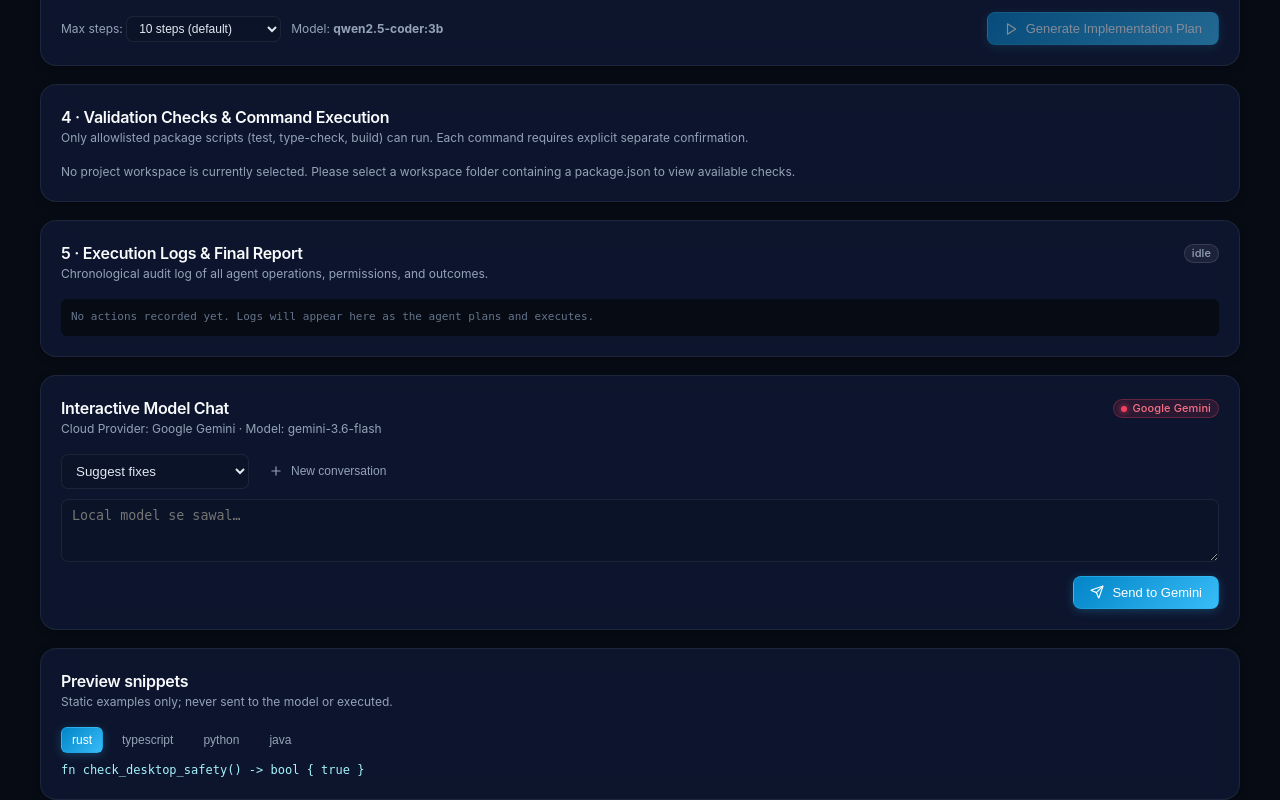
Lodhi AI Screens & Quality Assurance Suite › renders CodingAssistantScreen and switches languages
(page scrolled)
Expected: the text "fn check_desktop_safety() -> bool { true }" is shown, [61, 762, 364, 776]
// Switch to TypeScript
Click the button "typescript" at (148, 740), box [111, 726, 184, 752]
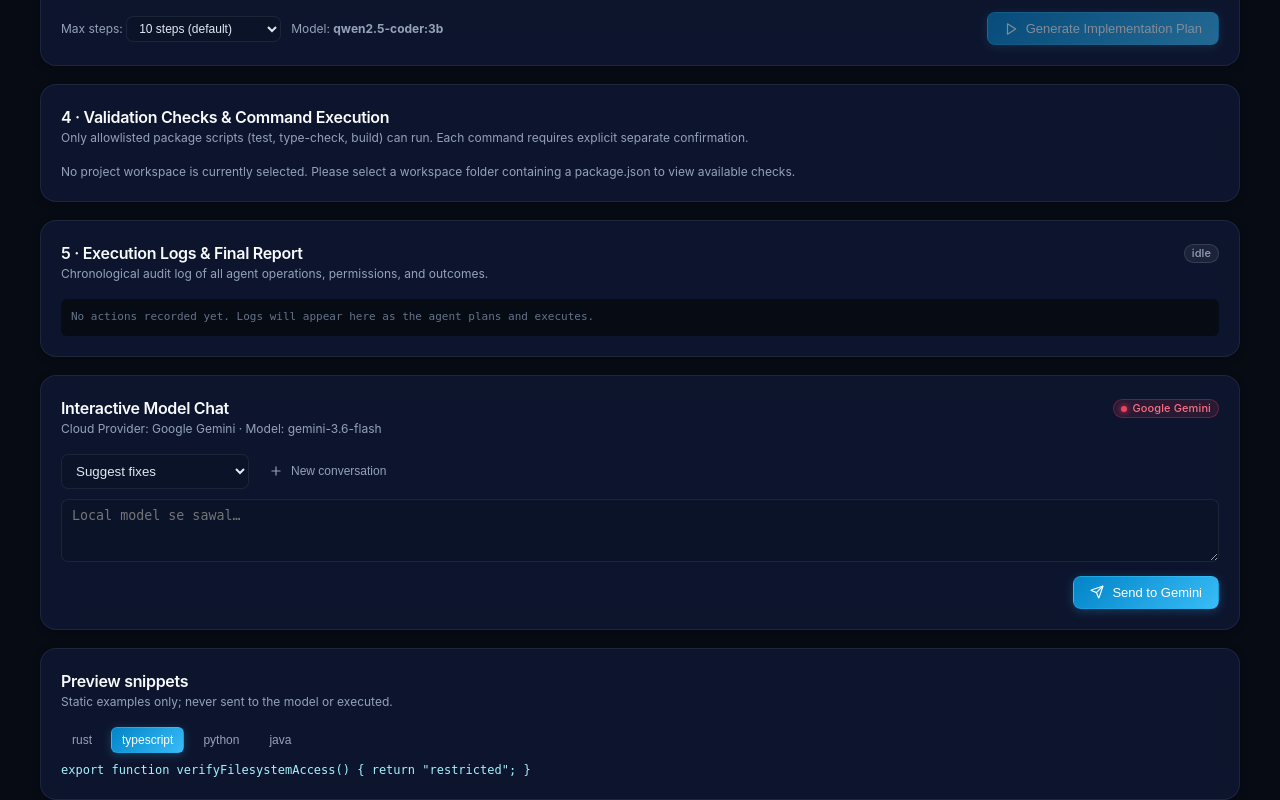
Now the text "verifyFilesystemAccess" is shown, box [61, 762, 531, 776]
// Switch to Python
Click the button "python" at (221, 740), box [192, 726, 250, 752]
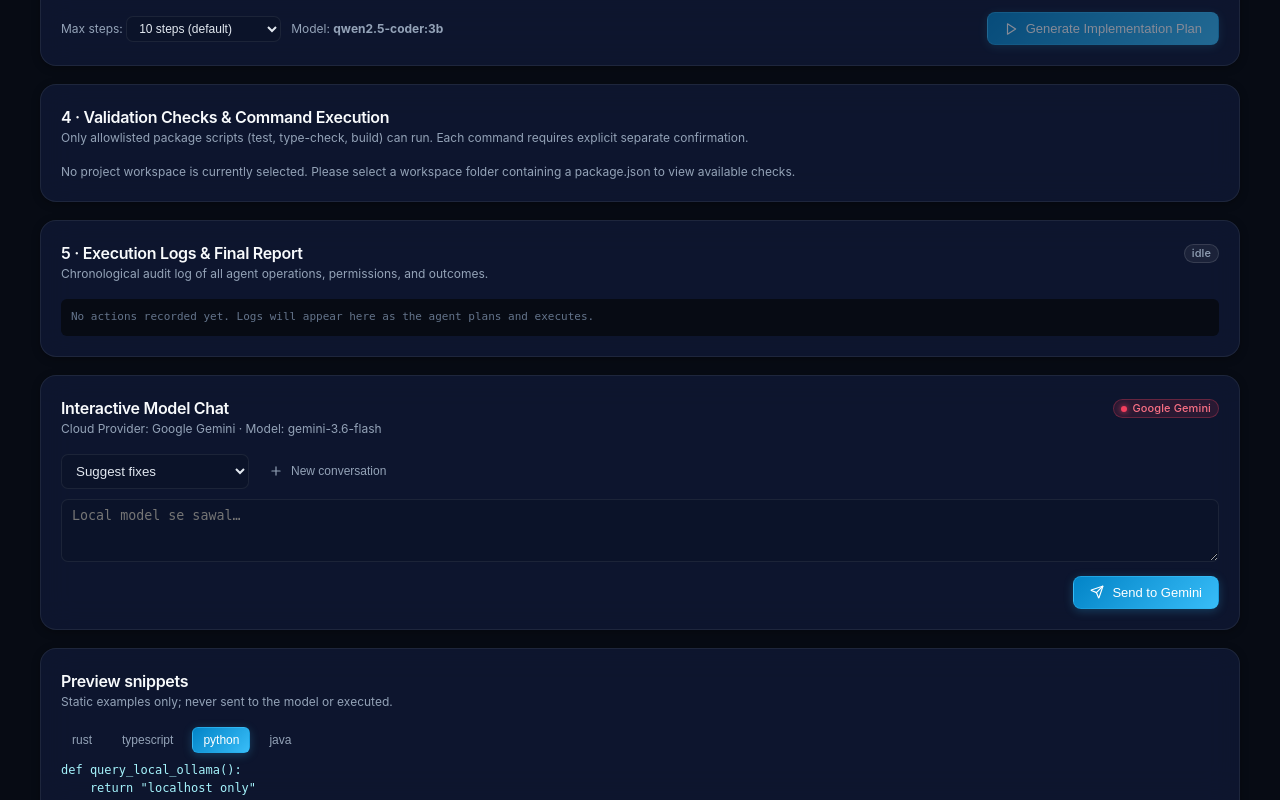
Now the text "def query_local_ollama(): return \"localhost only\"" is shown, box [61, 762, 256, 794]
// Switch to Java
Click the button "java" at (280, 740), box [258, 726, 302, 752]
(page scrolled)
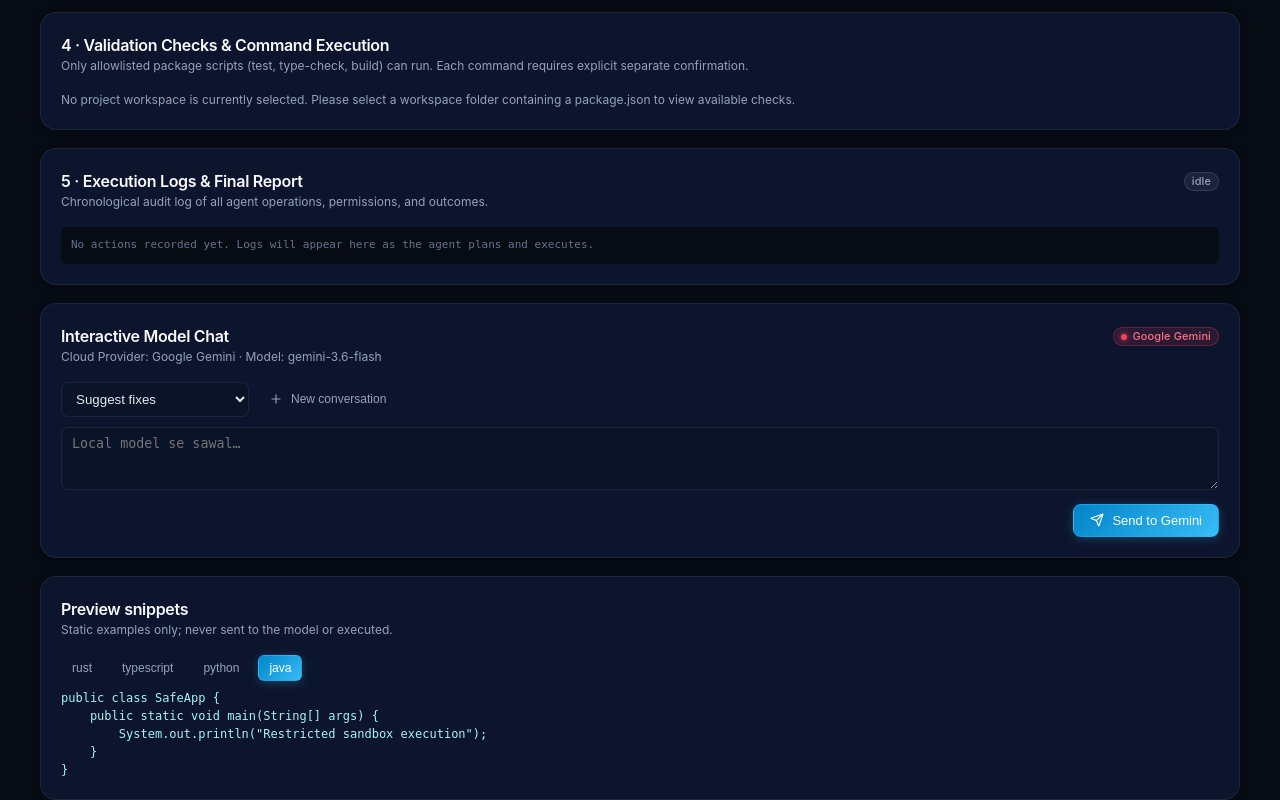
Now the text "Restricted sandbox execution" is shown, box [61, 690, 487, 776]
